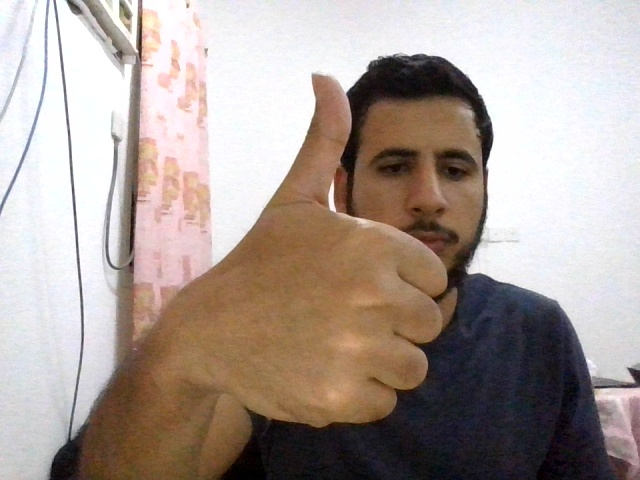One: (225, 72, 448, 427)
